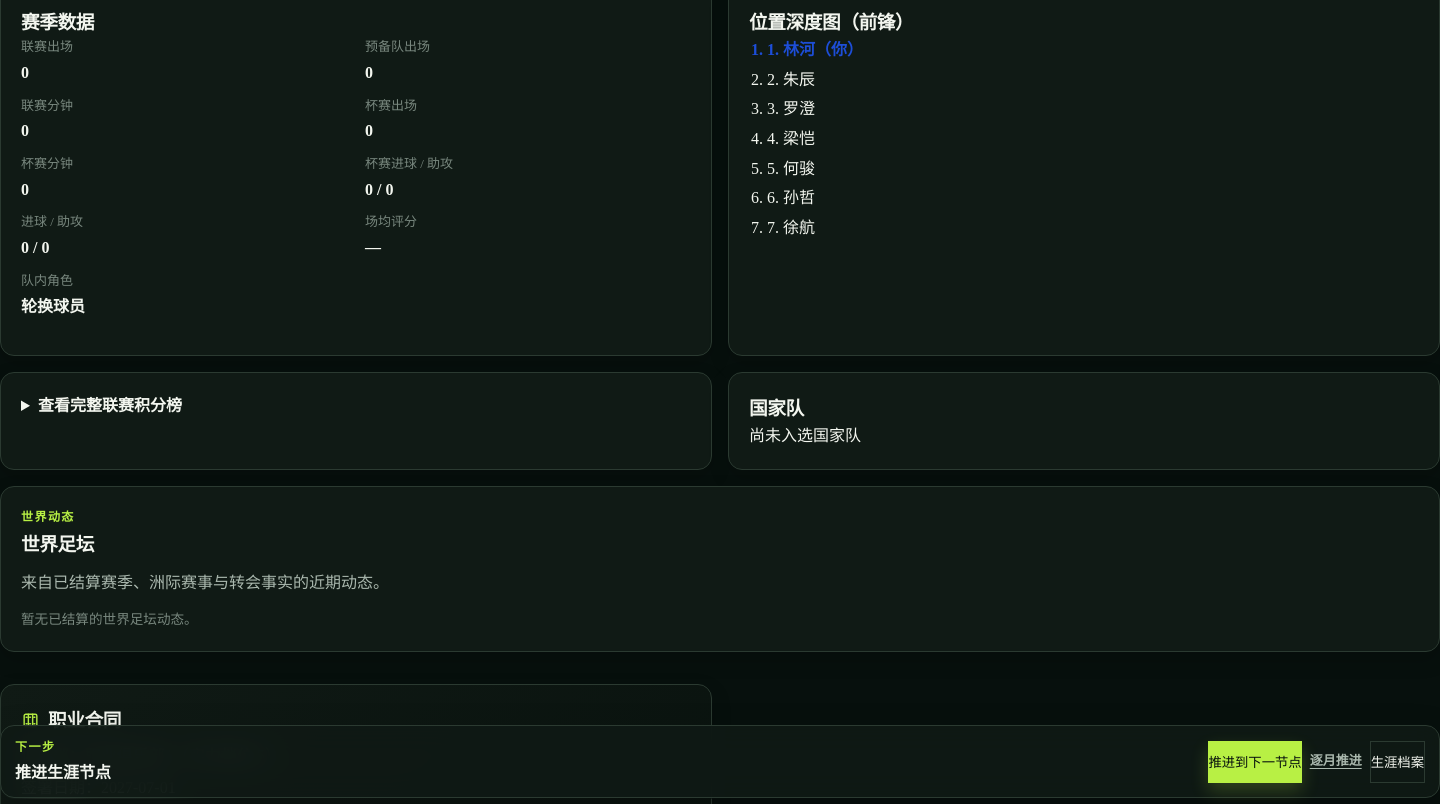
Test: ProDashboard › renders names for overseas clubs in the standings
(page scrolled)
Click the heading "查看完整联赛积分榜" at (110, 405), box [38,394,182,416]
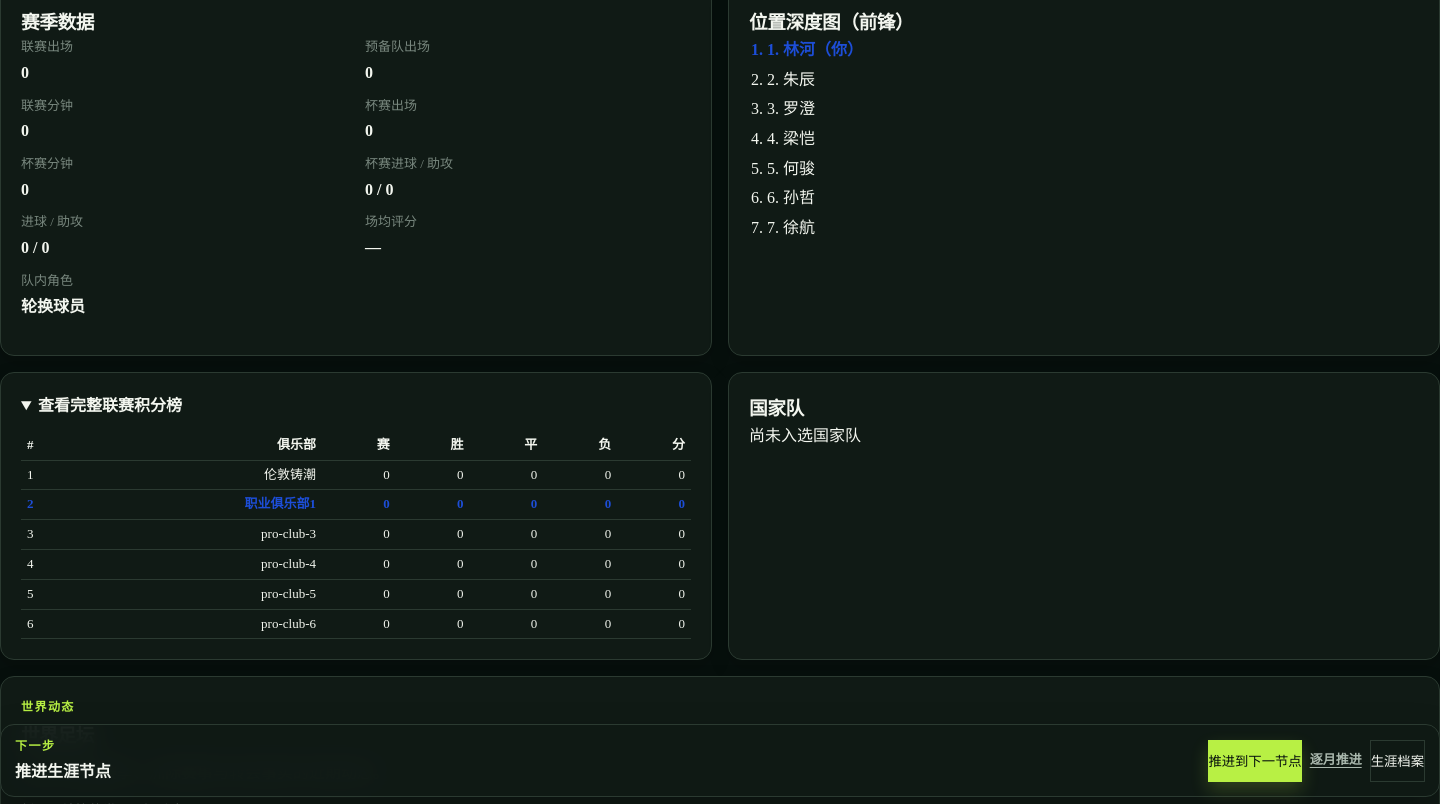
Result: the text "伦敦铸潮" is shown at [76,460,322,490]
